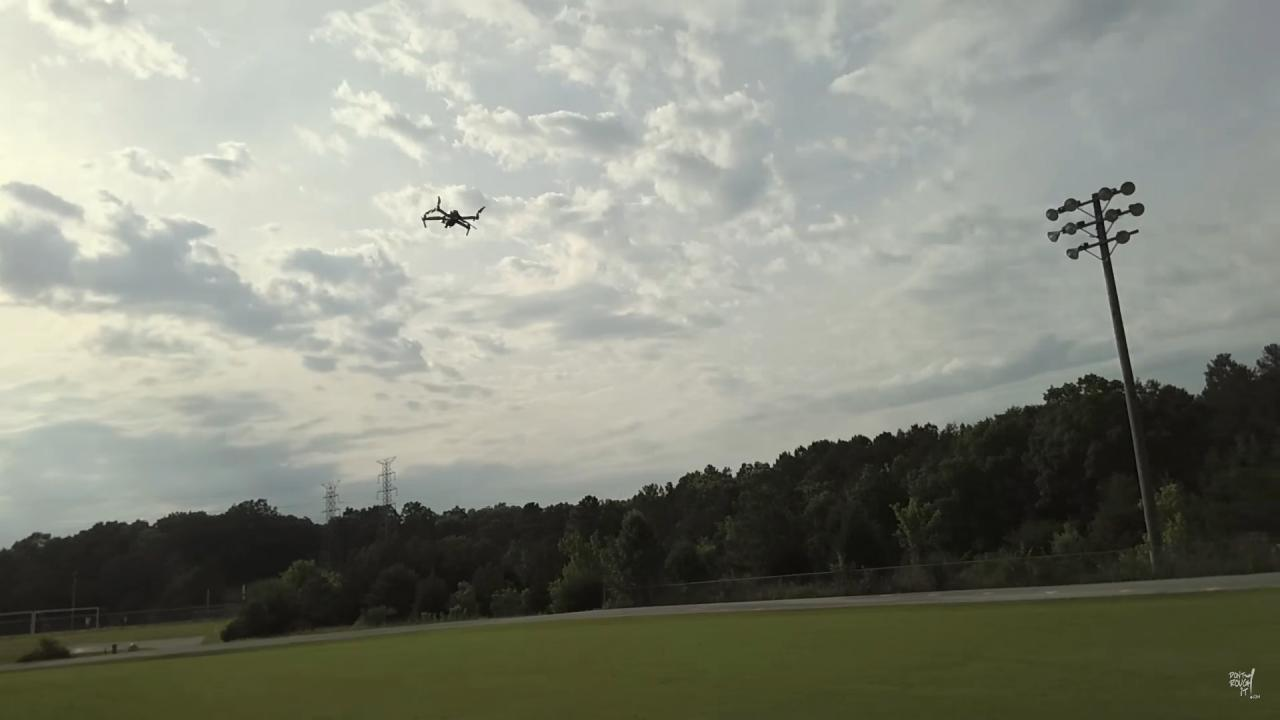Drone: (411, 185, 495, 245)
